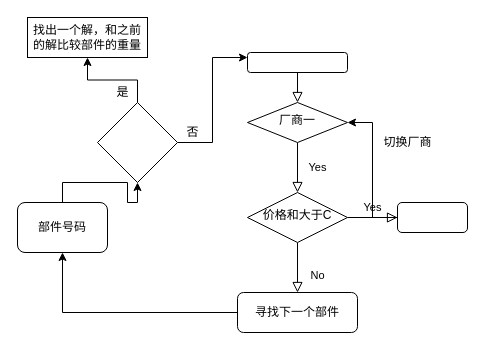
The diagram is 485 pixels wide and 350 high, and some of its shapes have lost their labels. Here are the shapes that lost their labels. From the top down, the box of each, then its label:
(246, 52, 348, 72): 寻找第pos个部件
(96, 102, 178, 182): 部件号大于n
(396, 202, 468, 232): 回溯
